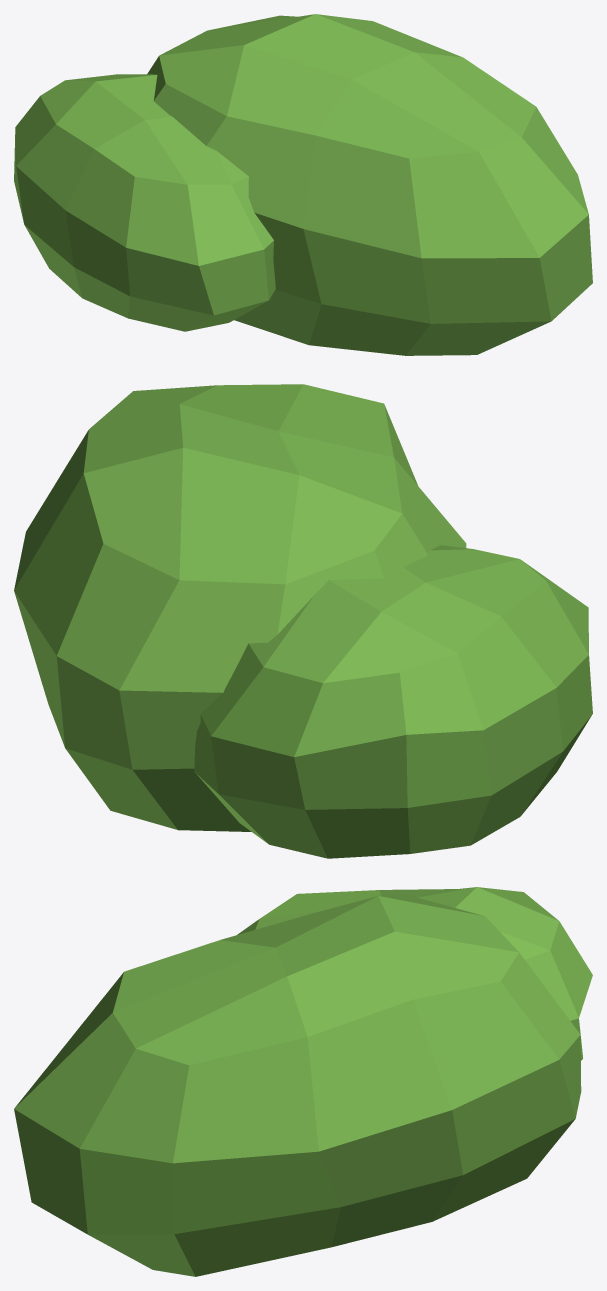
Rendered from msh_Bush02.fbx.
The picture shows the model from 3 angles, top to bottom: view 1: azimuth 30°, elevation 25°; view 2: azimuth 150°, elevation 25°; view 3: azimuth 270°, elevation 25°; orthographic projection. The views are drawn at different scales.
Parts seen in each view (by area): view 1: Cube.014, Cube.018; view 2: Cube.014, Cube.018; view 3: Cube.014, Cube.018.
Part boxes in pixels (box(x1,y1,x2,y2)): Cube.014: box(147, 14, 592, 355); Cube.018: box(14, 74, 275, 331); Cube.014: box(14, 384, 466, 831); Cube.018: box(194, 545, 592, 858); Cube.014: box(14, 894, 581, 1276); Cube.018: box(237, 887, 592, 1060).
Bounding box in the file's own units: 199 × 116 × 209.
